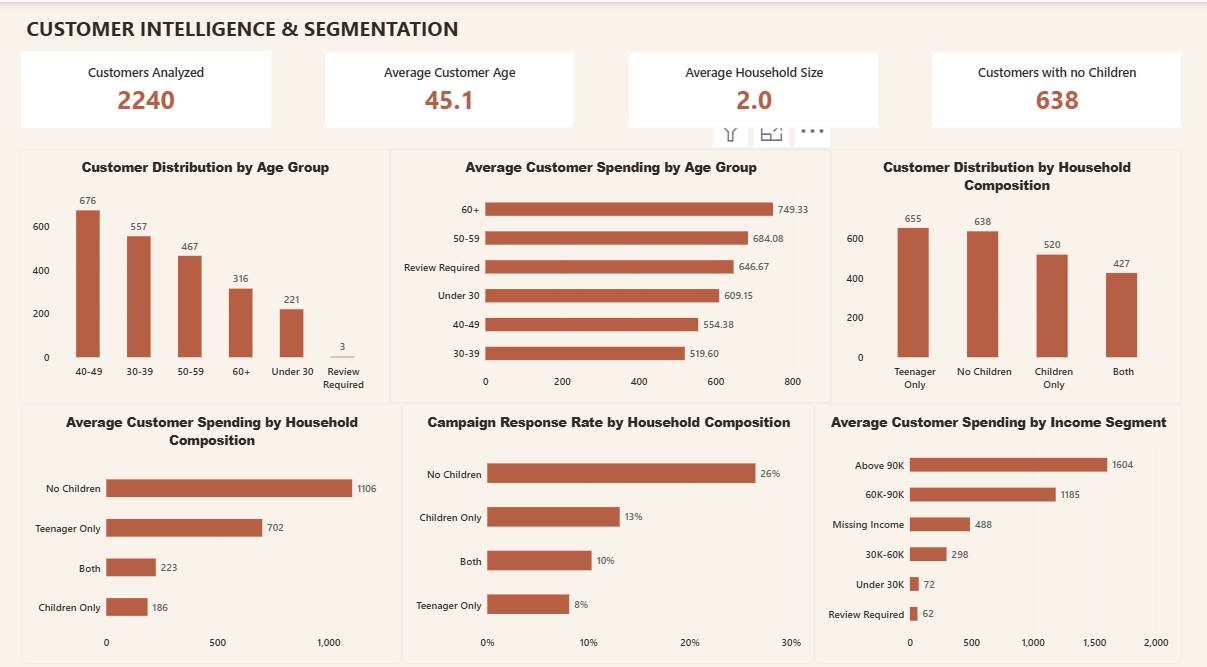

This screenshot's page, from the dashboard's own definition file:
{"tool":"powerbi","page":{"name":"Customer Intelligence","canvas":[1920,1080],"ordinal":1},"visuals":[{"type":"textbox","box":[33.4,19.1,715.8,57.3],"z":0},{"type":"textbox","box":[16.7,76.3,622.7,64.4],"z":1000},{"type":"cardVisual","fields":{"Data":["Customers.Total Customers"]},"box":[33.4,78.7,398.1,121.7],"z":2000,"group":"g1"},{"type":"clusteredBarChart","title":"Average Customer Spending by Age Group ","fields":{"Category":["Customers.Age Group"],"Y":["Marketing Performance.Average Customer Spending"]},"box":[619.2,234.2,701.5,403.2],"z":2000},{"type":"cardVisual","fields":{"Data":["Customers.Average Customer Age"]},"box":[516.3,78.7,398.1,121.7],"z":3000,"group":"g1"},{"type":"clusteredColumnChart","title":"Customer Distribution by Age Group","fields":{"Category":["Customers.Age Group"],"Y":["Customers.Total Customers"]},"box":[31,233.8,589.3,405.6],"z":3000},{"type":"cardVisual","fields":{"Data":["Customers.Average Household Size"]},"box":[999.1,78.7,398.1,121.7],"z":4000,"group":"g1"},{"type":"clusteredBarChart","title":"Average Customer Spending by Household Composition","fields":{"Category":["Customers.Household Type"],"Y":["Marketing Performance.Average Customer Spending"]},"box":[33.4,639.4,606,412.8],"z":4000},{"type":"cardVisual","fields":{"Data":["Customers.Customers with no Children"]},"box":[1482,78.7,398.1,121.7],"z":5000,"group":"g1"},{"type":"clusteredColumnChart","title":"Customer Distribution by Household Composition","fields":{"Category":["Customers.Household Type"],"Y":["Customers.Total Customers"]},"box":[1320.7,234.2,558.3,405.6],"z":5000},{"type":"clusteredBarChart","title":"Campaign Response Rate by Household Composition ","fields":{"Category":["Customers.Household Type"],"Y":["Marketing Performance.Campaign Respond Rate"]},"box":[639.4,639.4,656.1,412.8],"z":6000},{"type":"clusteredBarChart","title":"Average Customer Spending by Income Segment","fields":{"Category":["Customers.Income Segment"],"Y":["Marketing Performance.Average Customer Spending"]},"box":[1295.6,639.4,584.5,412.8],"z":7000},{"type":"group","id":"g1","title":"Group 1","box":[33.4,78.7,1846.7,121.7],"z":8000}]}

Visuals, with their boxes in screenshot pixels (x1, y1, x2, y2), scaled from the page's 1920x1080 canvas onto the 1207x667 screenshot:
textbox: {"left": 21, "top": 12, "right": 471, "bottom": 47}
textbox: {"left": 10, "top": 47, "right": 402, "bottom": 87}
cardVisual - Customers.Total Customers: {"left": 21, "top": 49, "right": 271, "bottom": 124}
"Average Customer Spending by Age Group " clusteredBarChart: {"left": 389, "top": 145, "right": 830, "bottom": 394}
cardVisual - Customers.Average Customer Age: {"left": 325, "top": 49, "right": 575, "bottom": 124}
"Customer Distribution by Age Group" clusteredColumnChart: {"left": 19, "top": 144, "right": 390, "bottom": 395}
cardVisual - Customers.Average Household Size: {"left": 628, "top": 49, "right": 878, "bottom": 124}
"Average Customer Spending by Household Composition" clusteredBarChart: {"left": 21, "top": 395, "right": 402, "bottom": 650}
cardVisual - Customers.Customers with no Children: {"left": 932, "top": 49, "right": 1182, "bottom": 124}
"Customer Distribution by Household Composition" clusteredColumnChart: {"left": 830, "top": 145, "right": 1181, "bottom": 395}
"Campaign Response Rate by Household Composition " clusteredBarChart: {"left": 402, "top": 395, "right": 814, "bottom": 650}
"Average Customer Spending by Income Segment" clusteredBarChart: {"left": 814, "top": 395, "right": 1182, "bottom": 650}
"Group 1" group: {"left": 21, "top": 49, "right": 1182, "bottom": 124}
